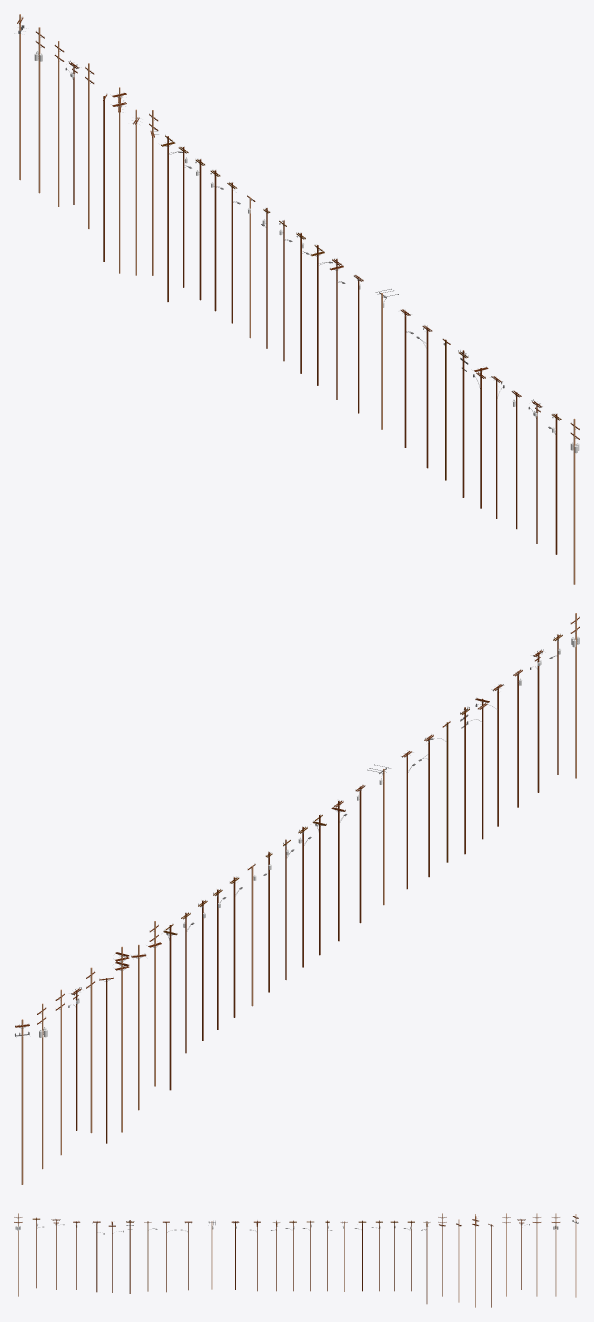
The model's file is tva_wood_pylons.glb.
The picture shows the model from 3 angles, top to bottom: view 1: azimuth 30°, elevation 25°; view 2: azimuth 150°, elevation 25°; view 3: azimuth 270°, elevation 25°; orthographic projection. The views are drawn at different scales.
Visible parts, largest first — view 1: Object_18, Object_13; view 2: Object_18, Object_13, Object_19; view 3: Object_18, Object_13, Object_19.
Boxes of the visible parts, x1=… form: Object_18: x1=17, y1=17, x2=579, y2=554; Object_13: x1=19, y1=14, x2=575, y2=584; Object_18: x1=15, y1=617, x2=579, y2=1143; Object_13: x1=21, y1=613, x2=576, y2=1184; Object_19: x1=163, y1=634, x2=562, y2=935; Object_18: x1=14, y1=1216, x2=578, y2=1307; Object_13: x1=18, y1=1213, x2=576, y2=1307; Object_19: x1=32, y1=1218, x2=430, y2=1291.
Bounding box in the file's own units: 0.5593 × 4.27 × 23.23.
